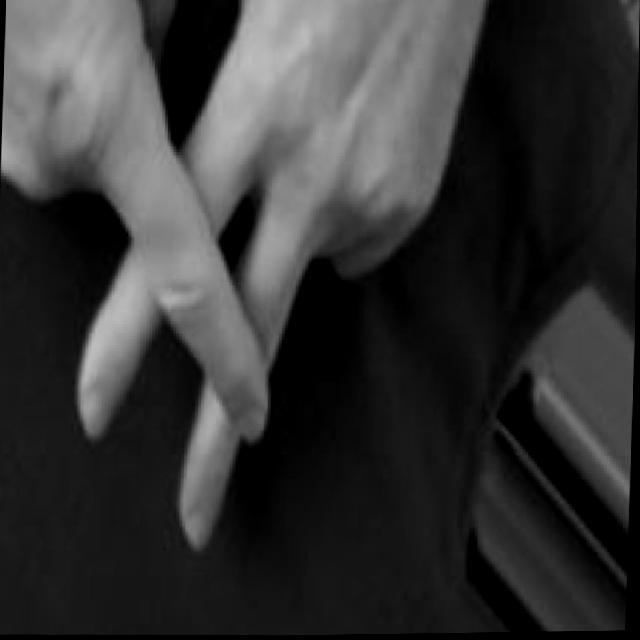A: (0, 0, 497, 564)
